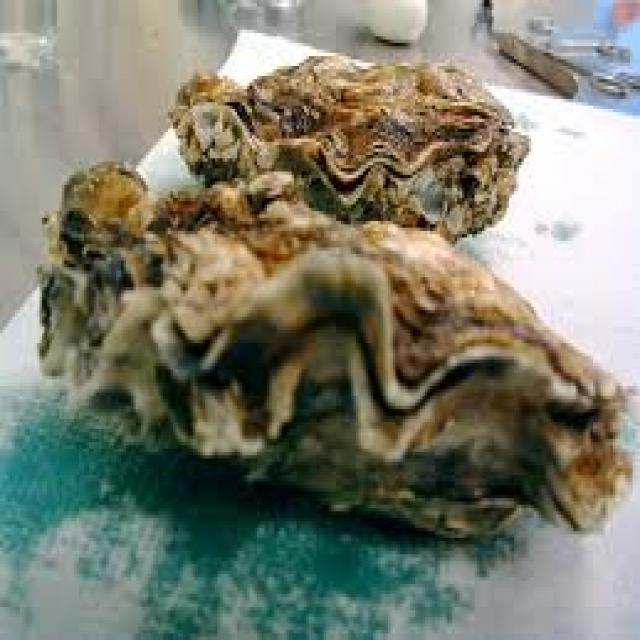Oyster-Closed: (40, 164, 631, 534), (172, 56, 529, 240)
